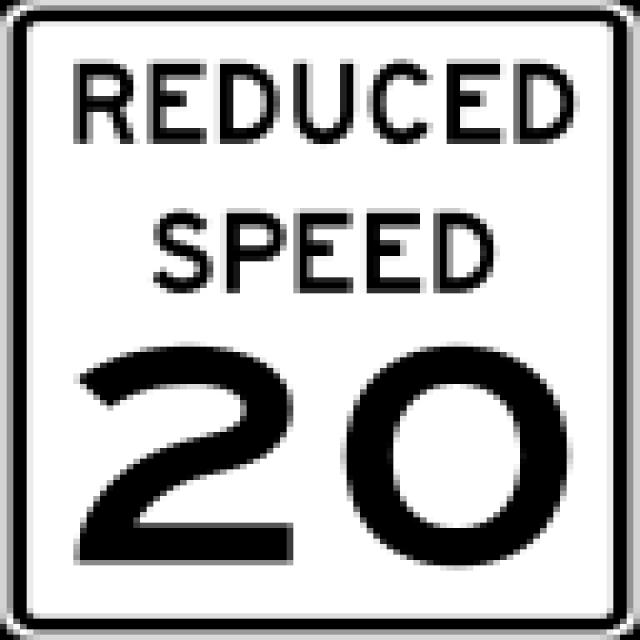Speed Limit -20-: (76, 341, 571, 570)
